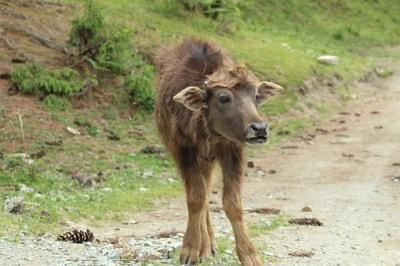buffalo: (155, 37, 282, 265)
